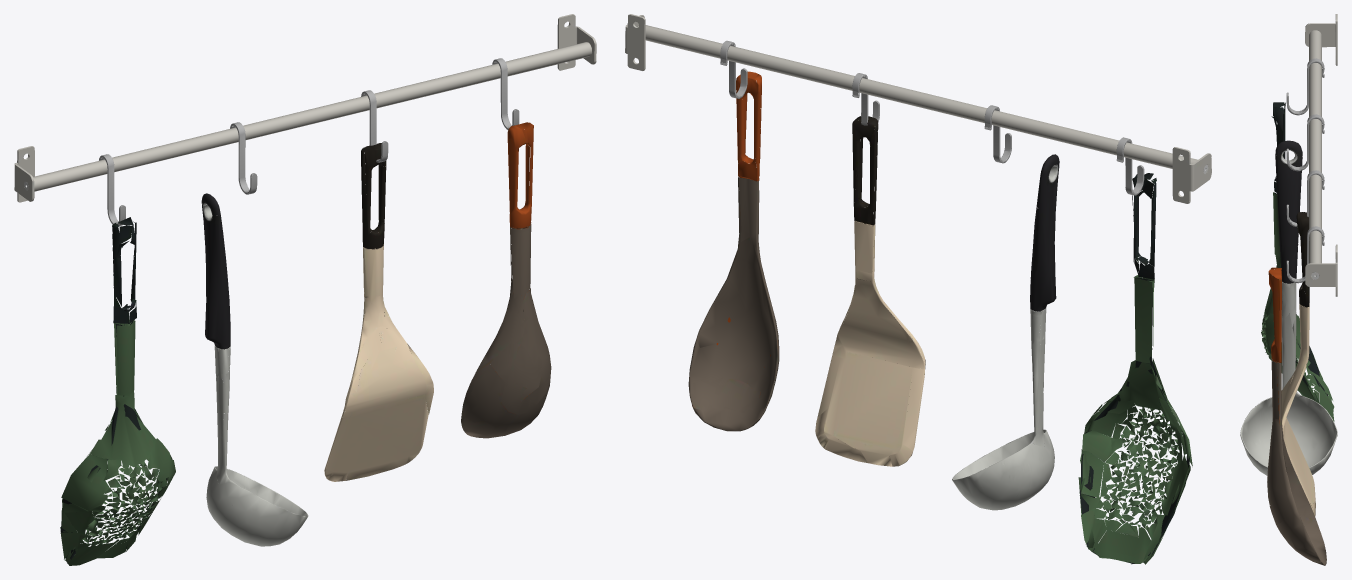
The picture shows the model from 3 angles, left to right: view 1: azimuth 30°, elevation 25°; view 2: azimuth 150°, elevation 25°; view 3: azimuth 270°, elevation 25°; orthographic projection. The views are drawn at different scales.
Visible parts, largest first — view 1: knorrhane-turner.001, knorrhane-slotted.001, knorrhane-spoon.001, kungsfors-rail-56.001, hjalte-ladle.001, kungsfors-s-hook.002; view 2: knorrhane-slotted.001, knorrhane-turner.001, knorrhane-spoon.001, kungsfors-rail-56.001, hjalte-ladle.001, kungsfors-s-hook.001, kungsfors-s-hook.002; view 3: hjalte-ladle.001, knorrhane-spoon.001, kungsfors-rail-56.001, knorrhane-turner.001, knorrhane-slotted.001, kungsfors-s-hook.001, kungsfors-s-hook.002, kungsfors-s-hook.004, kungsfors-s-hook.003.
Boxes of the visible parts, bbox=[...] form: knorrhane-turner.001: bbox=[324, 143, 433, 481]; knorrhane-slotted.001: bbox=[60, 217, 175, 565]; knorrhane-spoon.001: bbox=[461, 122, 551, 438]; kungsfors-rail-56.001: bbox=[14, 14, 596, 202]; hjalte-ladle.001: bbox=[201, 193, 308, 546]; kungsfors-s-hook.002: bbox=[230, 122, 257, 194]; knorrhane-slotted.001: bbox=[1078, 173, 1192, 564]; knorrhane-turner.001: bbox=[815, 116, 925, 466]; knorrhane-spoon.001: bbox=[688, 71, 779, 431]; kungsfors-rail-56.001: bbox=[625, 14, 1211, 203]; hjalte-ladle.001: bbox=[952, 154, 1059, 510]; kungsfors-s-hook.001: bbox=[1116, 137, 1144, 195]; kungsfors-s-hook.002: bbox=[984, 105, 1011, 163]; hjalte-ladle.001: bbox=[1240, 140, 1337, 475]; knorrhane-spoon.001: bbox=[1267, 267, 1326, 565]; kungsfors-rail-56.001: bbox=[1305, 14, 1337, 296]; knorrhane-turner.001: bbox=[1281, 212, 1315, 516]; knorrhane-slotted.001: bbox=[1261, 102, 1334, 421]; kungsfors-s-hook.001: bbox=[1286, 58, 1324, 115]; kungsfors-s-hook.002: bbox=[1286, 114, 1324, 171]; kungsfors-s-hook.004: bbox=[1286, 226, 1324, 283]; kungsfors-s-hook.003: bbox=[1286, 170, 1324, 227].
Bounding box in the file's own units: 0.5596 × 0.406 × 0.0958.
Materials: 6 (5 with a texture image).
